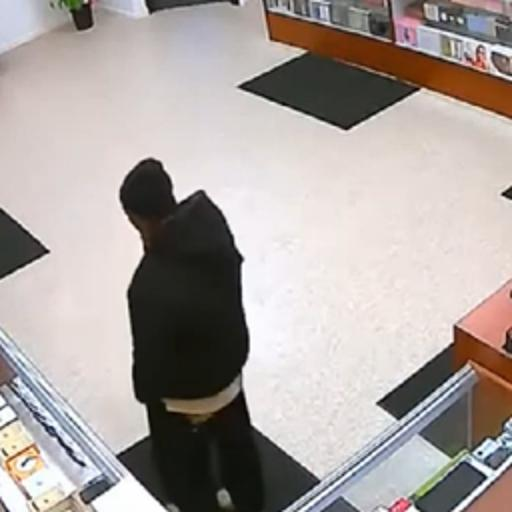Humans: (100, 141, 287, 512)
